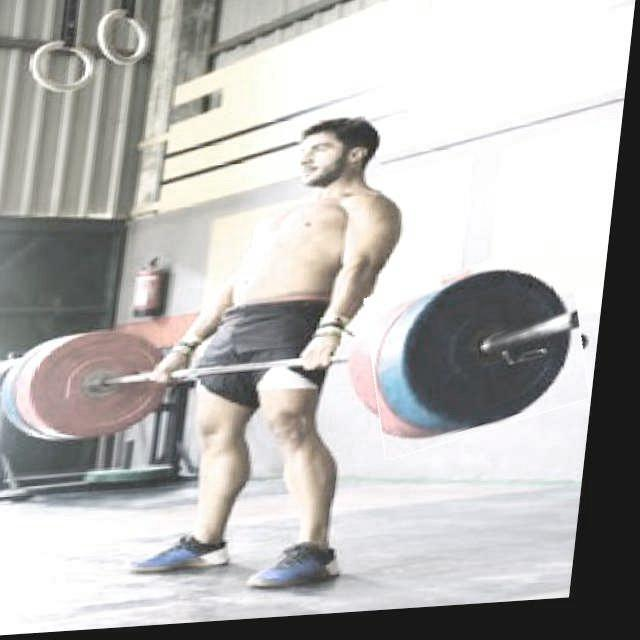barbell: (367, 255, 605, 457)
